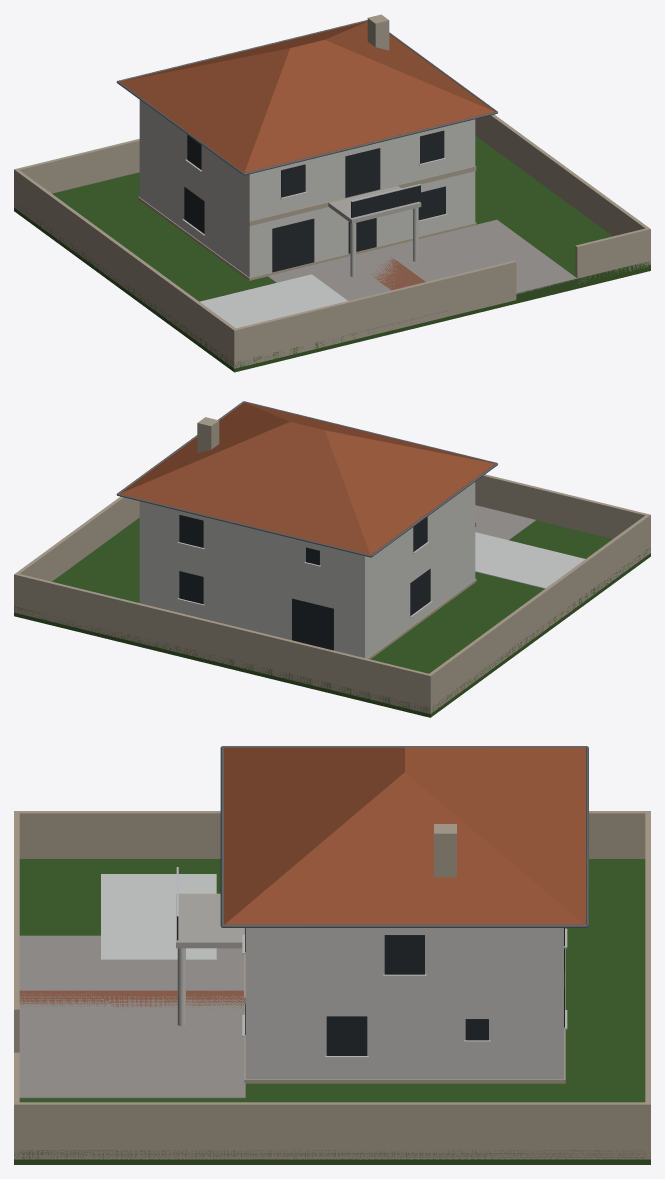
File: bina_12.glb
The picture shows the model from 3 angles, top to bottom: view 1: azimuth 30°, elevation 25°; view 2: azimuth 150°, elevation 25°; view 3: azimuth 270°, elevation 25°; orthographic projection. The views are drawn at different scales.
Parts seen in each view (by area): view 1: P12_Villa_L1.001; view 2: P12_Villa_L1.001; view 3: P12_Villa_L1.001.
Boxes of the visible parts, x1,y1,x2,y2 form: P12_Villa_L1.001: (14,14,650,372); P12_Villa_L1.001: (14,401,650,717); P12_Villa_L1.001: (14,746,650,1164).
Size of the model in its own units: 24 by 11.34 by 22.
